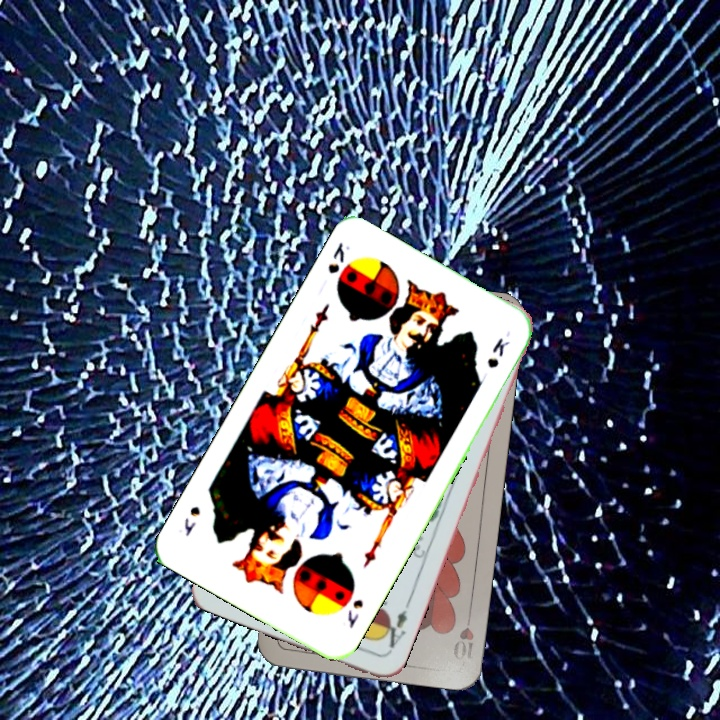EA: (377, 599, 412, 656)
H10: (449, 606, 477, 665)
SK: (323, 238, 353, 276), (343, 595, 366, 631)
